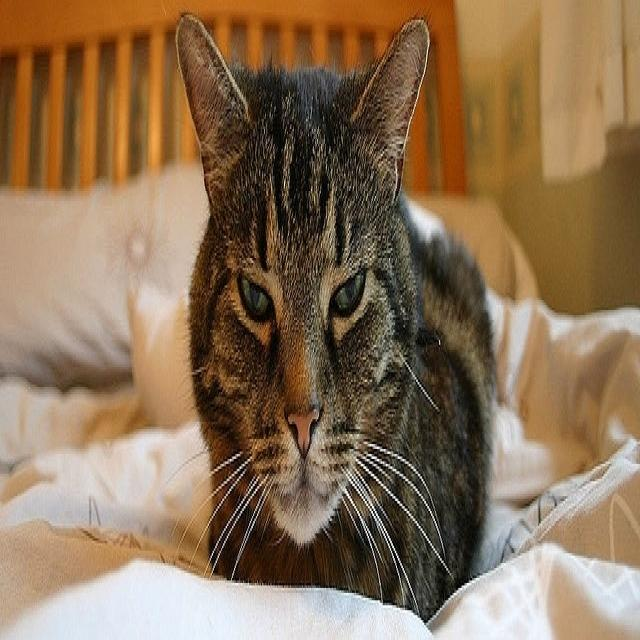cat: (177, 12, 496, 618)
